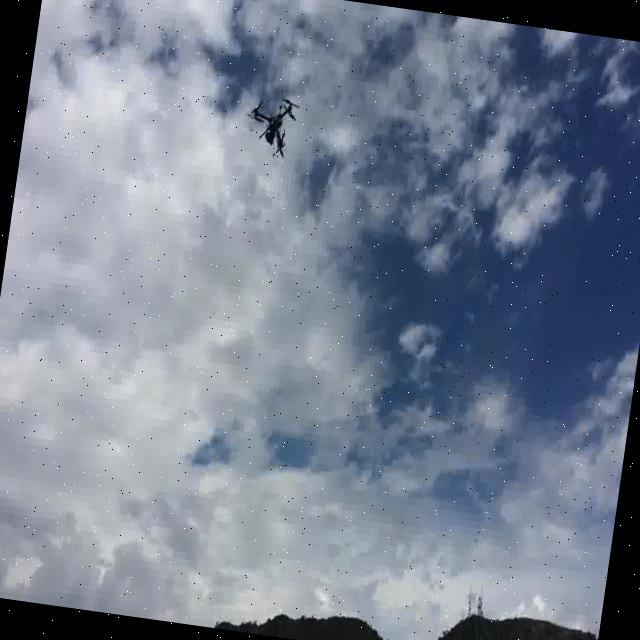drone: (223, 67, 315, 187)
